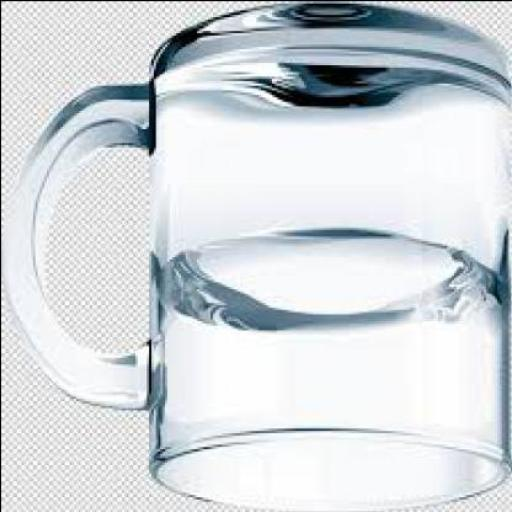glass: (2, 2, 511, 511)
